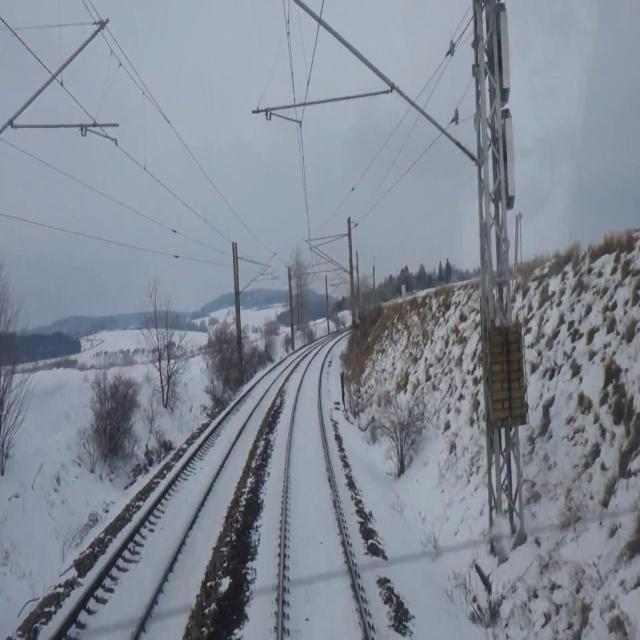rail-track: (55, 353, 297, 639), (282, 341, 367, 639)
